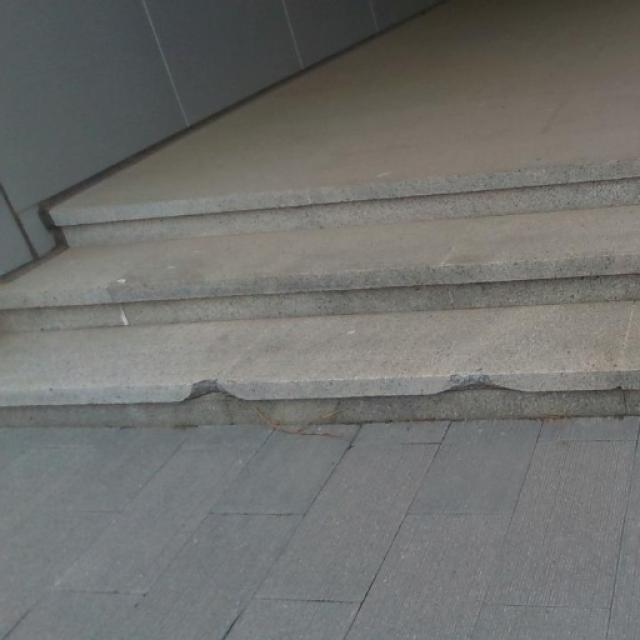Stairs: (0, 152, 639, 426)
